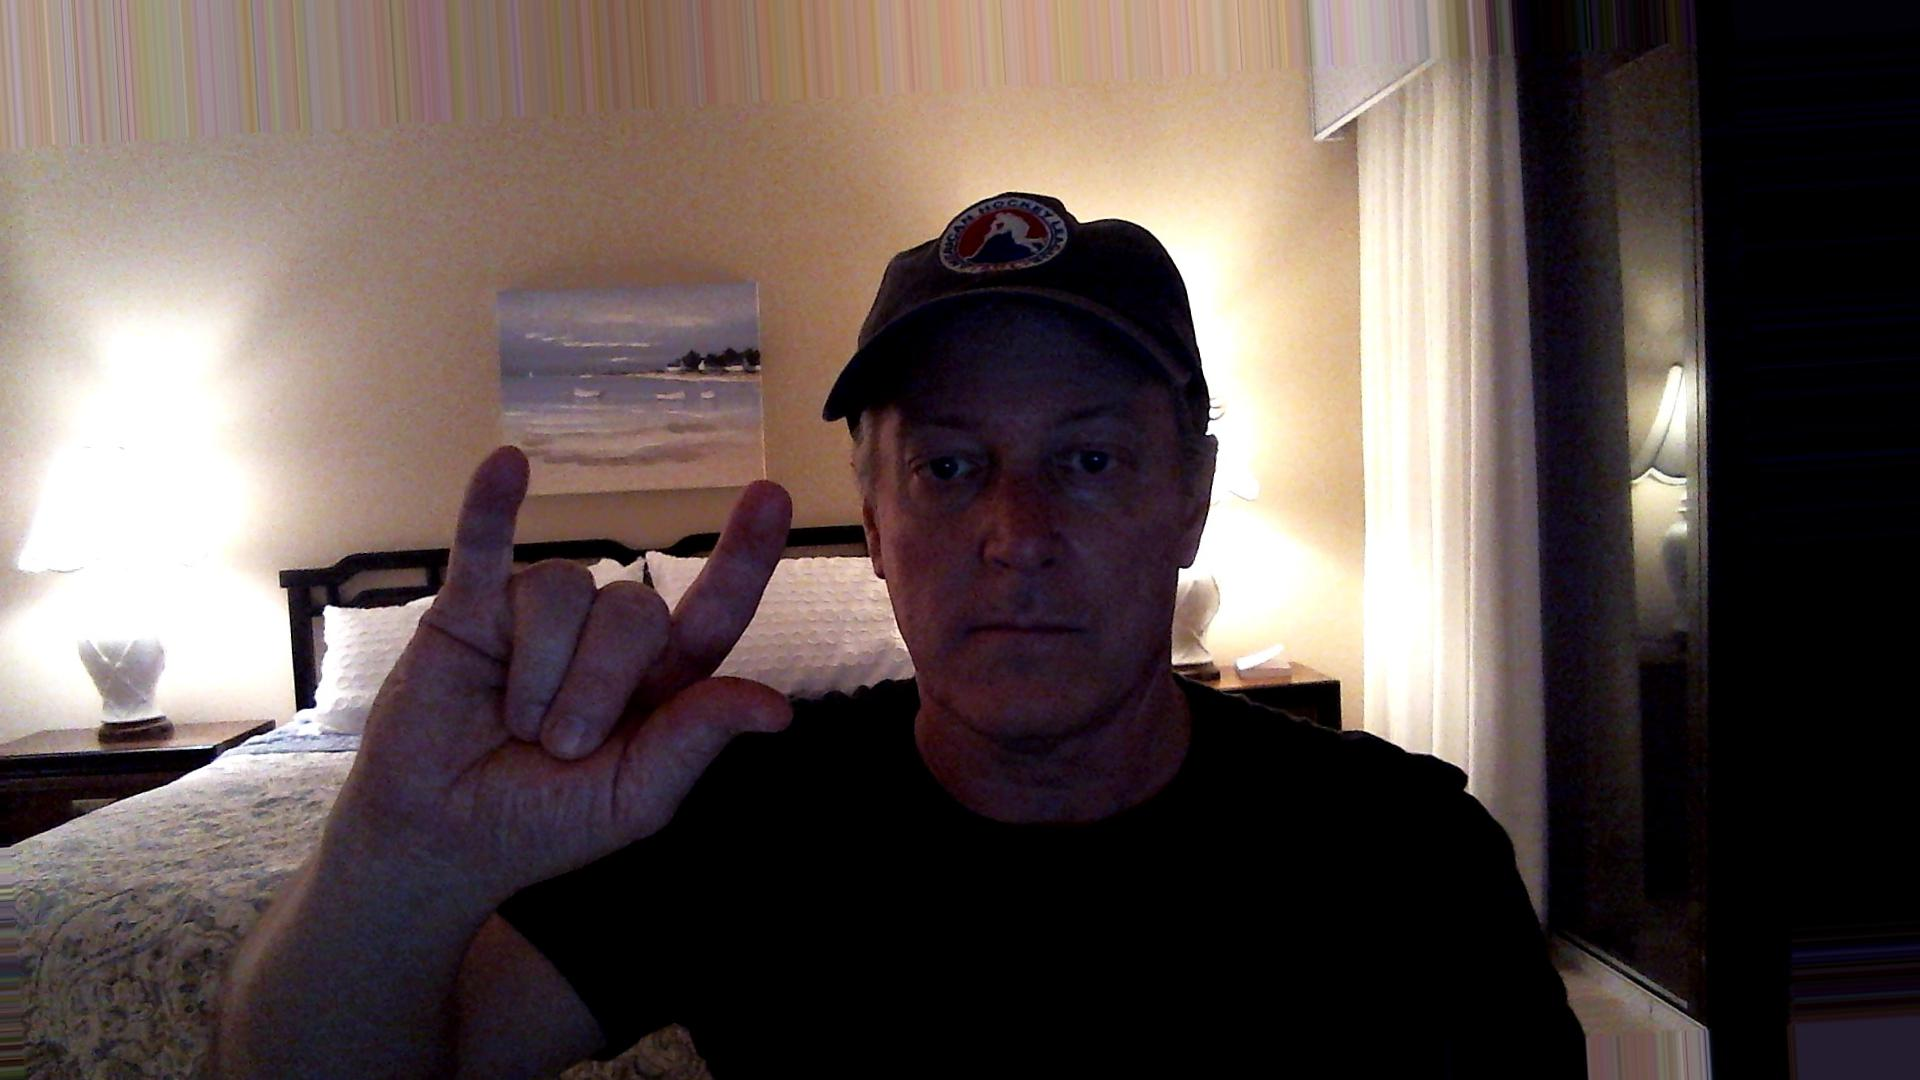I Love You: (335, 429, 835, 878)
